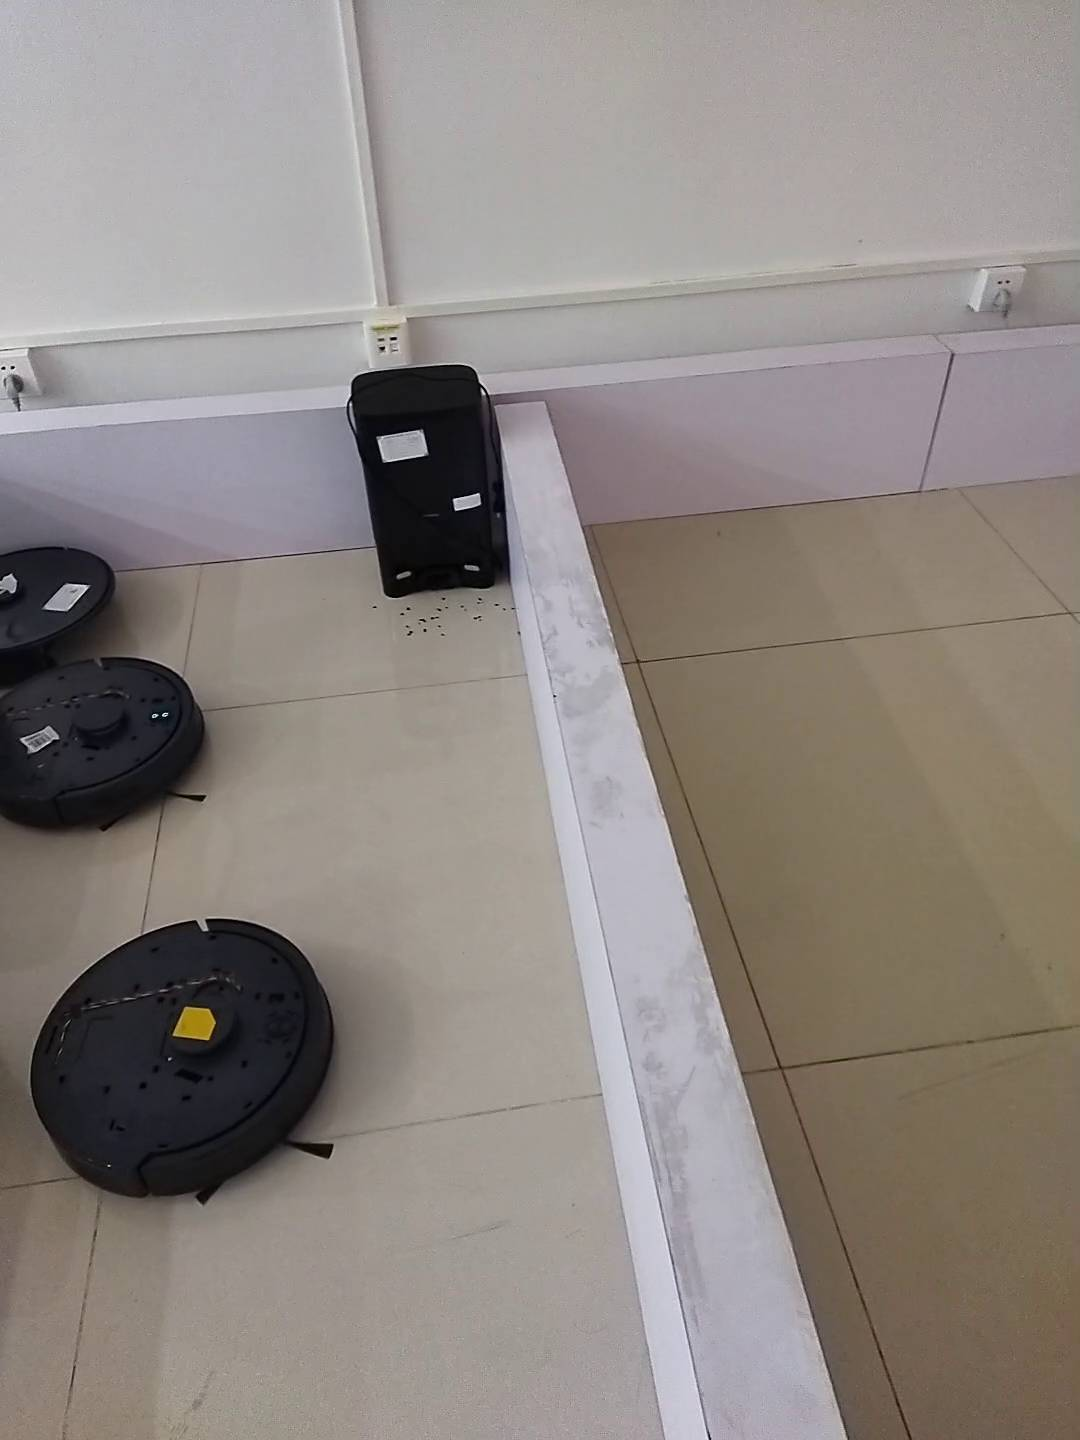dust collecting barrel: (352, 364, 508, 598)
